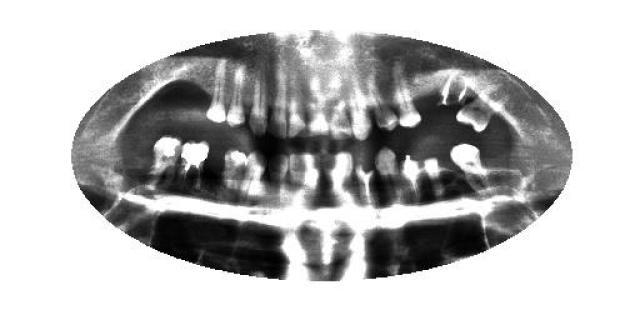Cavity: (436, 75, 469, 115)
Fillings: (144, 136, 182, 189)
Implant: (178, 138, 210, 192)
